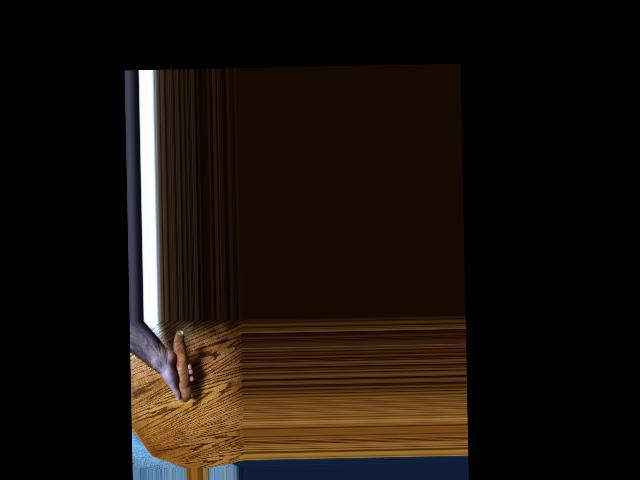sweet_potato: (167, 328, 192, 403)
